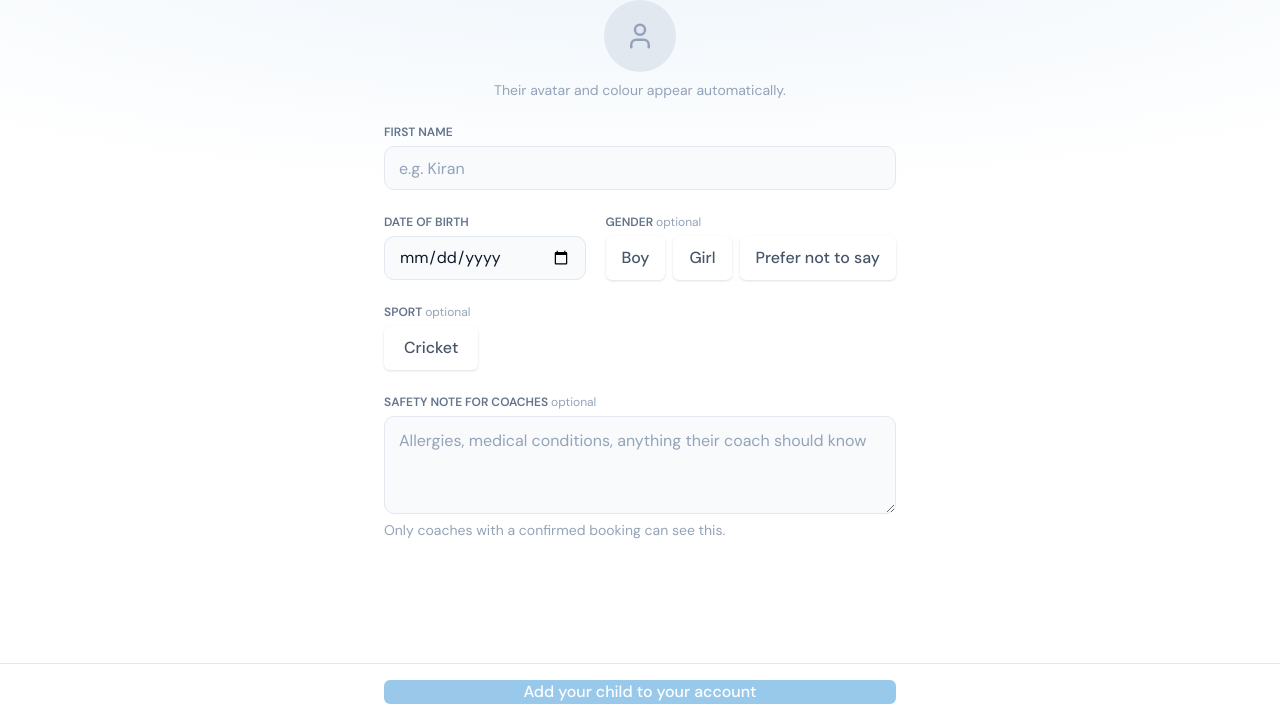
Test: ChildForm — create mode › reveals skill pills only when a sport is selected, and requires a skill
This screenshot has width=1280, height=720.
Step 1. Type "Kiran" into the field with test id "child-name-input" → (640, 168), box [384,146,896,190]
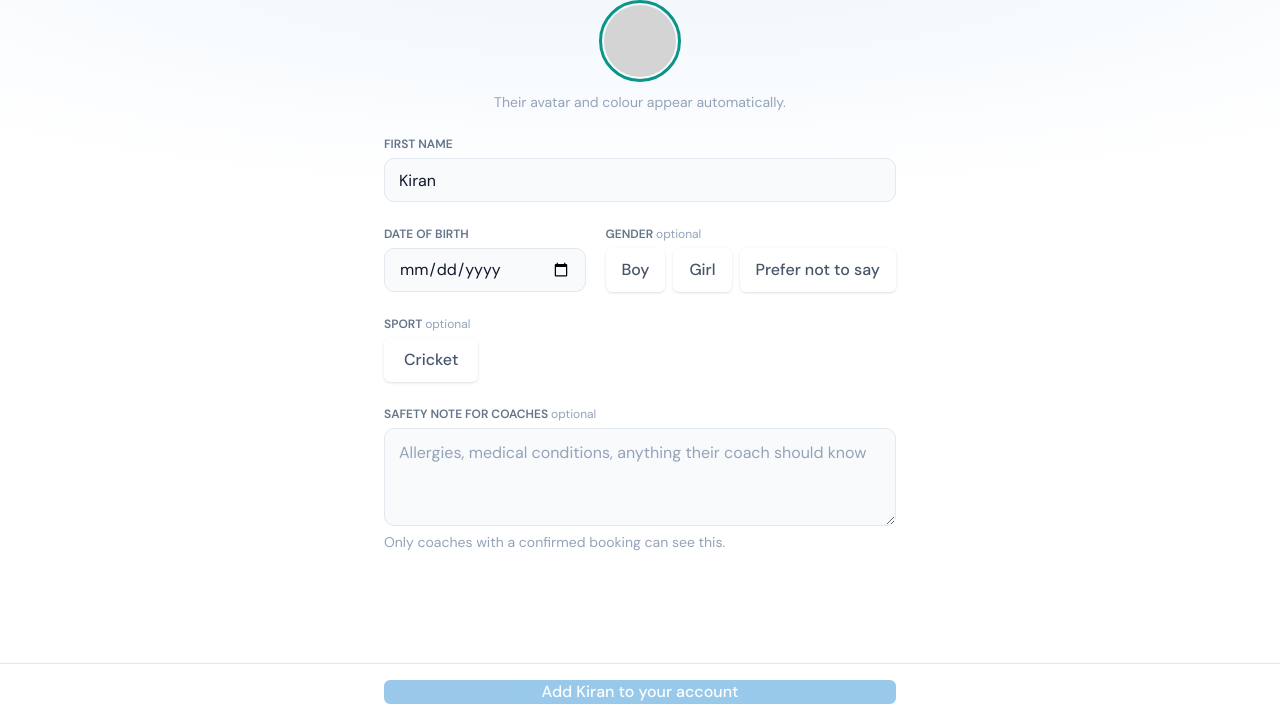
Step 2. Type "2020-03-14" into the date field with test id "child-dob-input" → (485, 270), box [384,248,586,292]
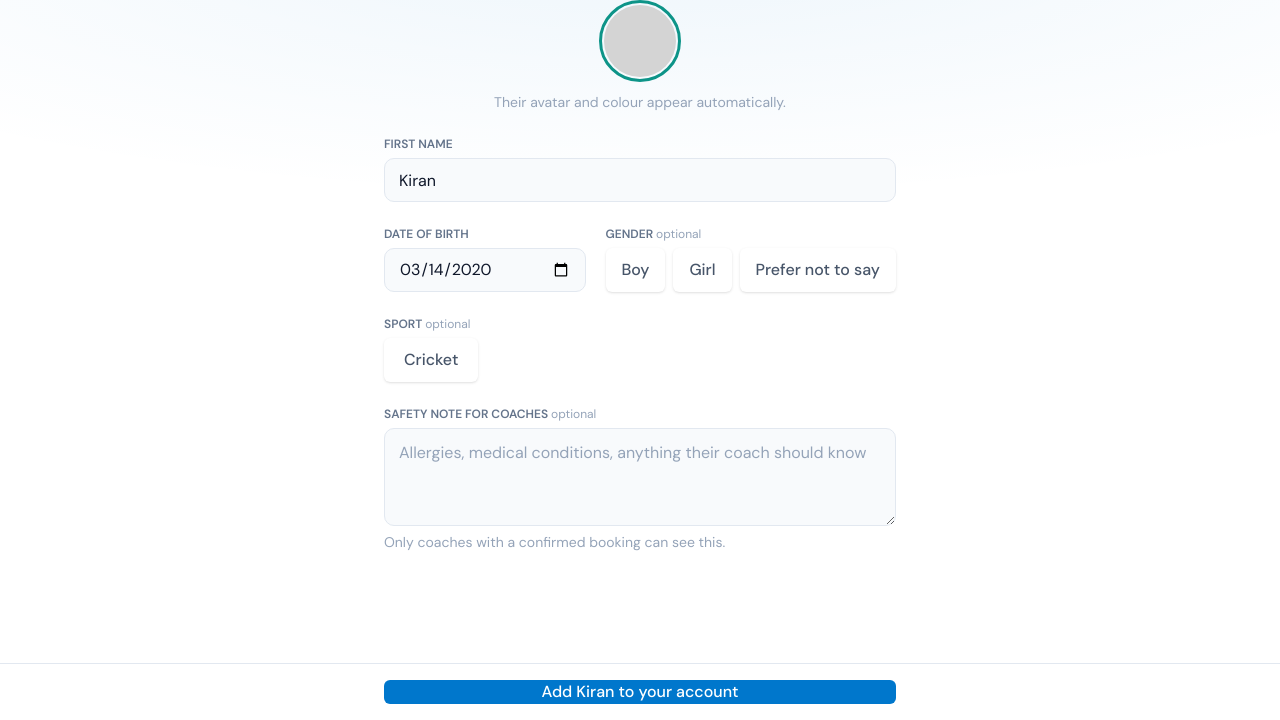
Step 3. Click the button "Cricket" → (431, 360), box [384,338,478,382]
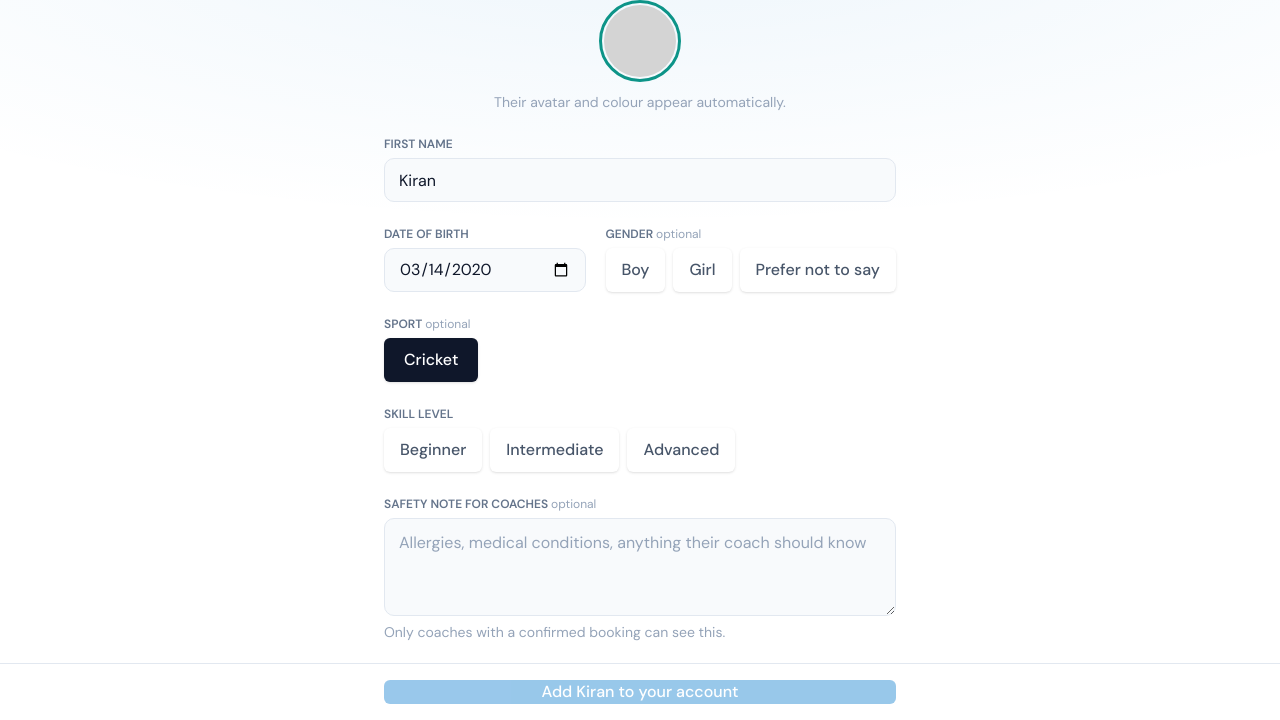
Result: the button with test id "skill-beginner" is shown
Result: the button with test id "child-form-submit" is disabled at [384,680,896,704]
Step 4. Click the button with test id "skill-beginner" → (433, 450), box [384,428,482,472]
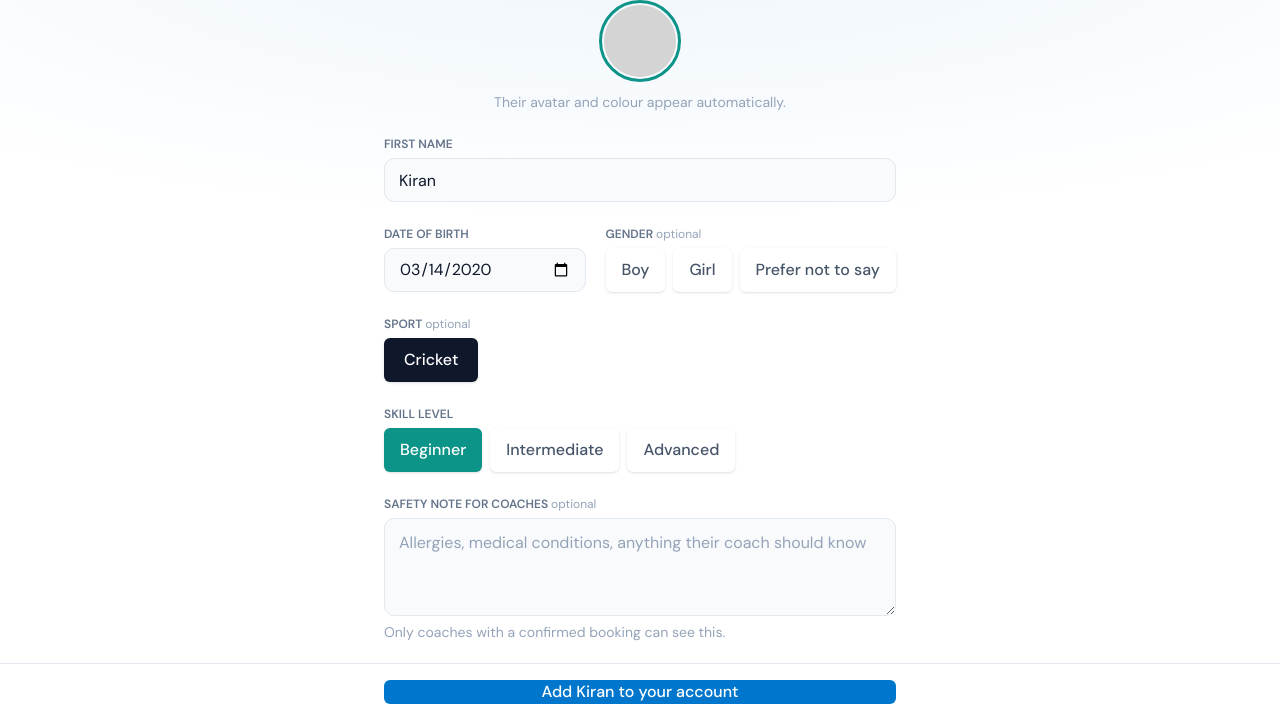
Result: the button with test id "child-form-submit" is enabled at [384,680,896,704]
Step 5. Click the button "Cricket" → (431, 360), box [384,338,478,382]
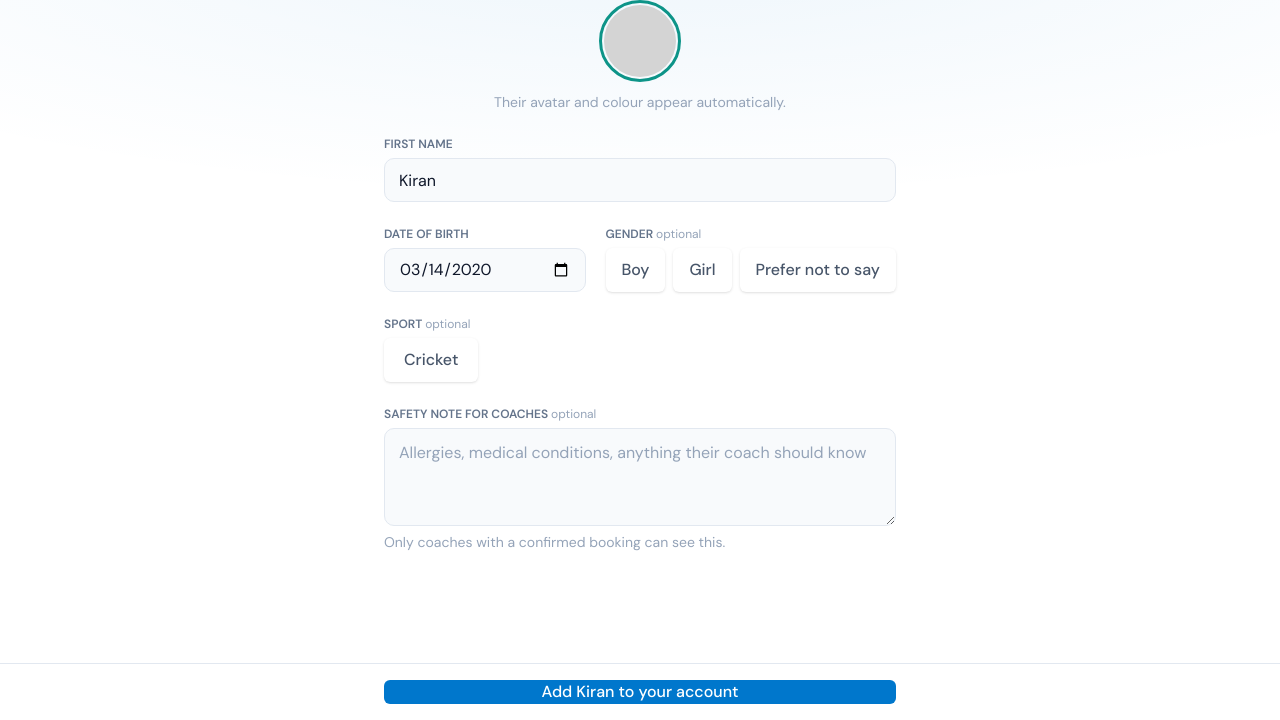
Result: the button with test id "child-form-submit" is enabled at [384,680,896,704]
Result: the button with test id "skill-beginner" is gone
